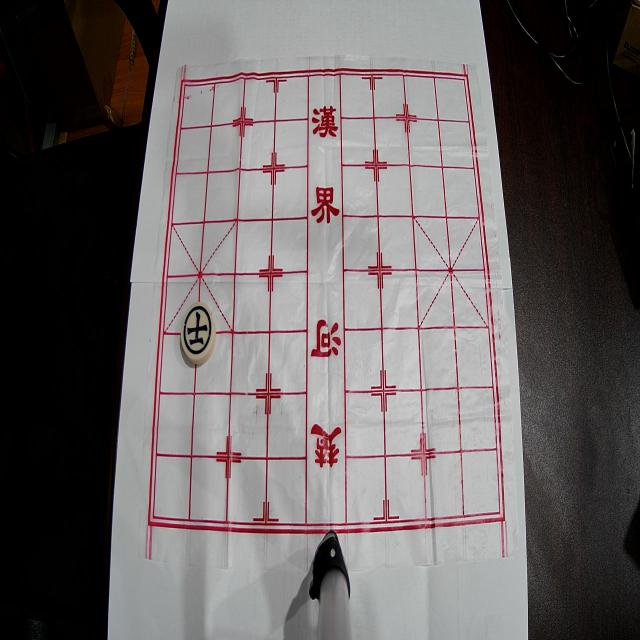black-guard: (181, 302, 216, 364)
